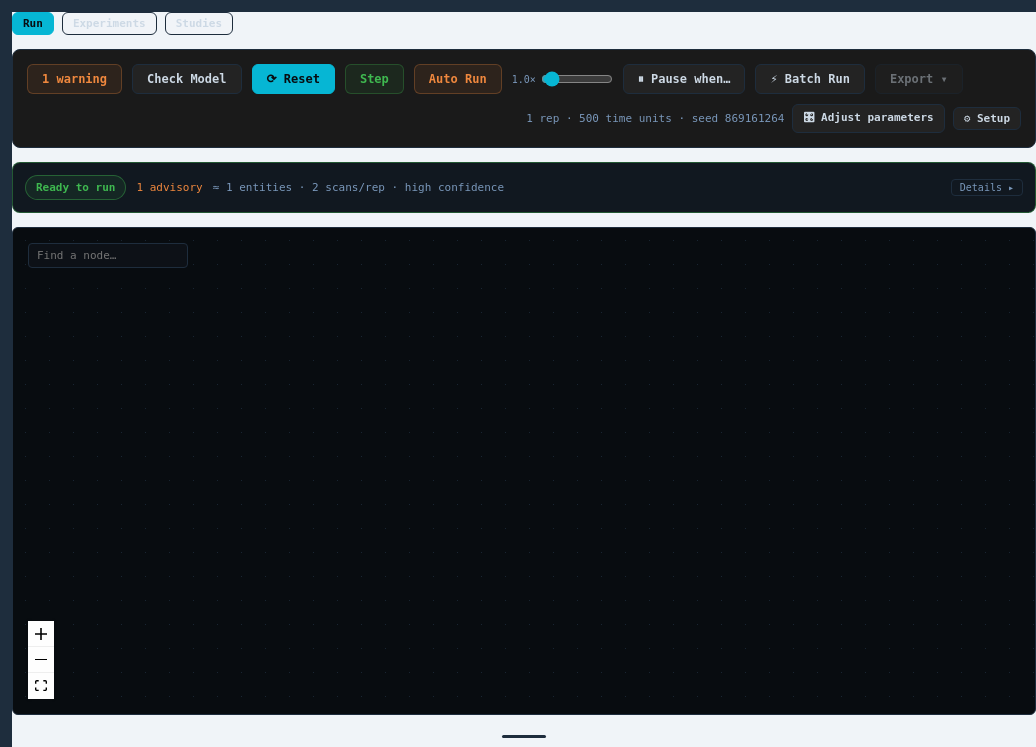
accessibility pass › lets a stored user setting override the reduced-motion default
Click the button "⚙ Setup". click: (987, 118)
box: x1=953 y1=107 x2=1021 y2=130
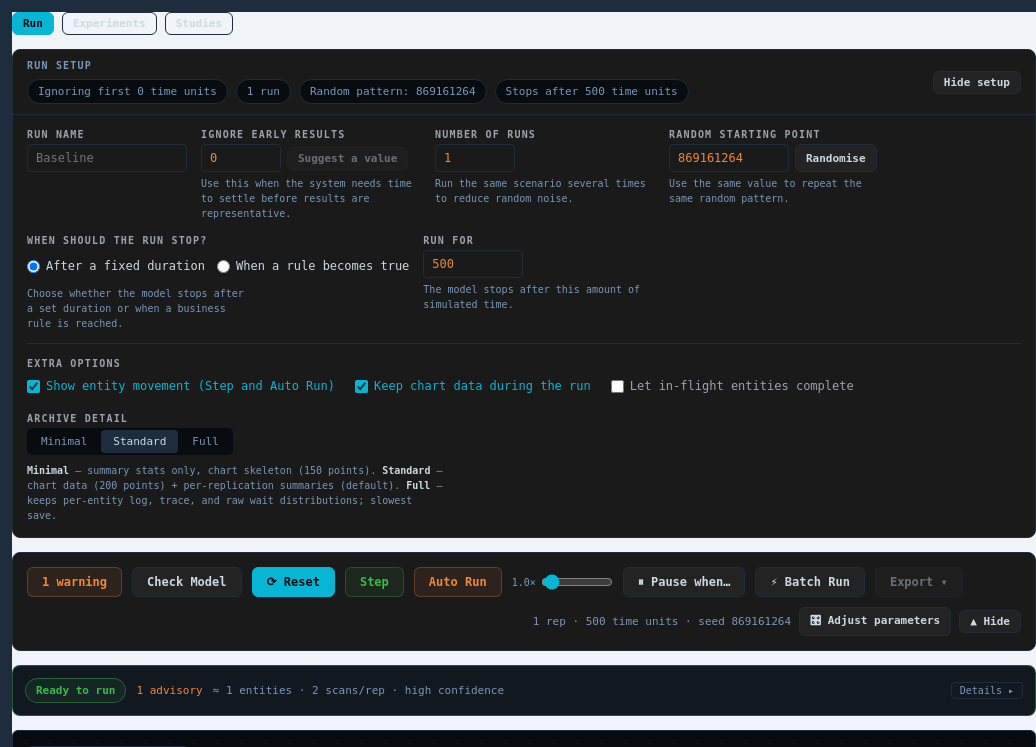
Check: the checkbox labelled "Show entity movement (Step and Auto Run)" is checked, box x1=27 y1=380 x2=40 y2=392
